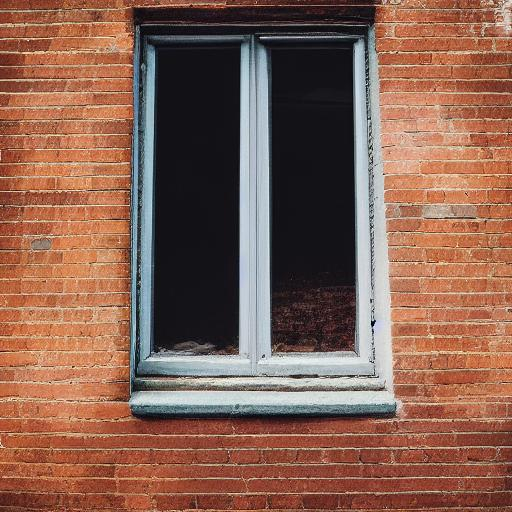Window: (126, 6, 399, 421)
